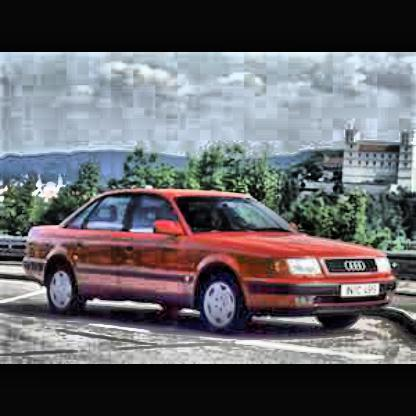Audi 100 Sedan 1994: (20, 186, 402, 337)
